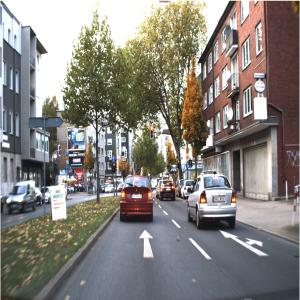go right or straight: (187, 163, 191, 170)
go straight: (113, 157, 117, 163)
